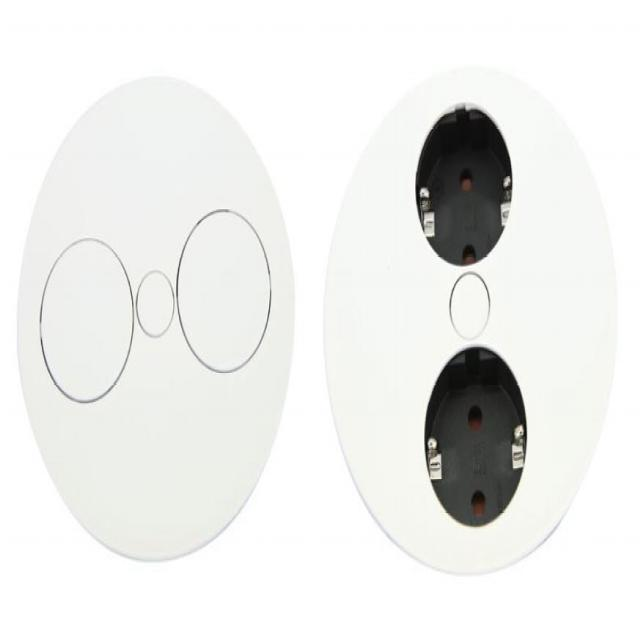typeb: (383, 92, 548, 277), (404, 337, 542, 536)
